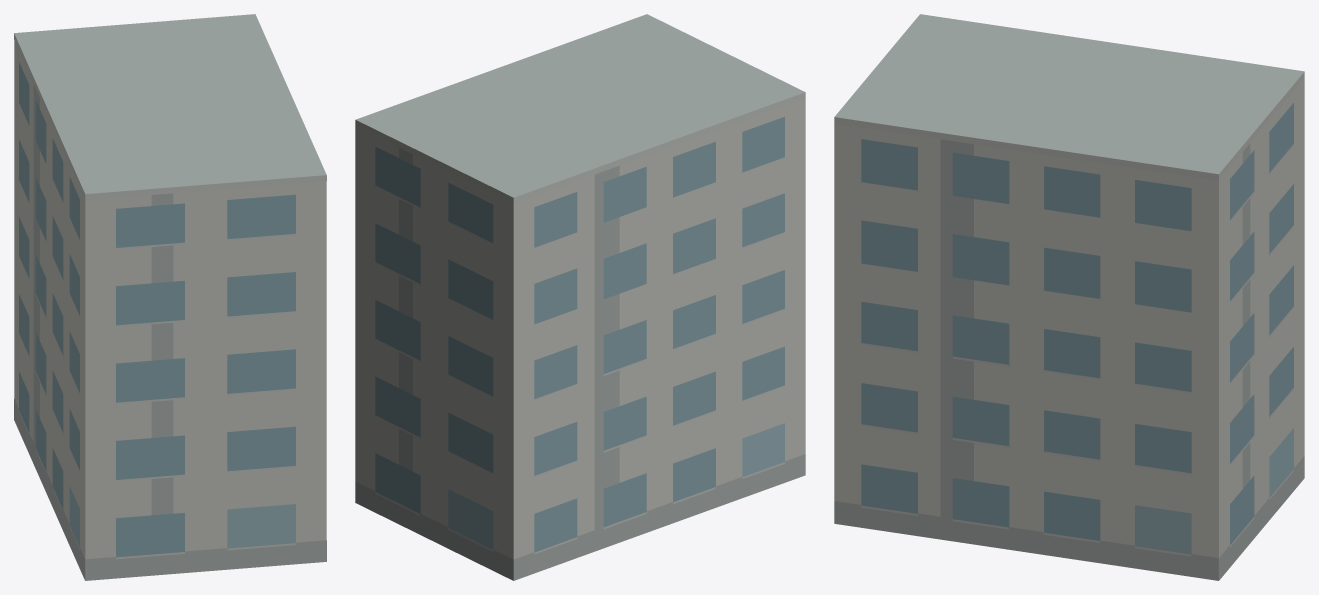
The model's file is residential-ad8d72b5-8ff4-4c5d-b08a-9ac80238b56e.glb.
The picture shows the model from 3 angles, left to right: view 1: azimuth 30°, elevation 25°; view 2: azimuth 150°, elevation 25°; view 3: azimuth 270°, elevation 25°; orthographic projection. The views are drawn at different scales.
Visible parts, largest first — view 1: residential-ad8d72b5-8ff4-4c5d-b08a-9ac80238b56e.tmp; view 2: residential-ad8d72b5-8ff4-4c5d-b08a-9ac80238b56e.tmp; view 3: residential-ad8d72b5-8ff4-4c5d-b08a-9ac80238b56e.tmp.
Boxes of the visible parts, left/top/right/bottom form: residential-ad8d72b5-8ff4-4c5d-b08a-9ac80238b56e.tmp: left=14, top=14, right=326, bottom=580; residential-ad8d72b5-8ff4-4c5d-b08a-9ac80238b56e.tmp: left=355, top=14, right=805, bottom=580; residential-ad8d72b5-8ff4-4c5d-b08a-9ac80238b56e.tmp: left=834, top=14, right=1304, bottom=580.
Size of the model in its own units: 12.9 by 15.25 by 16.
